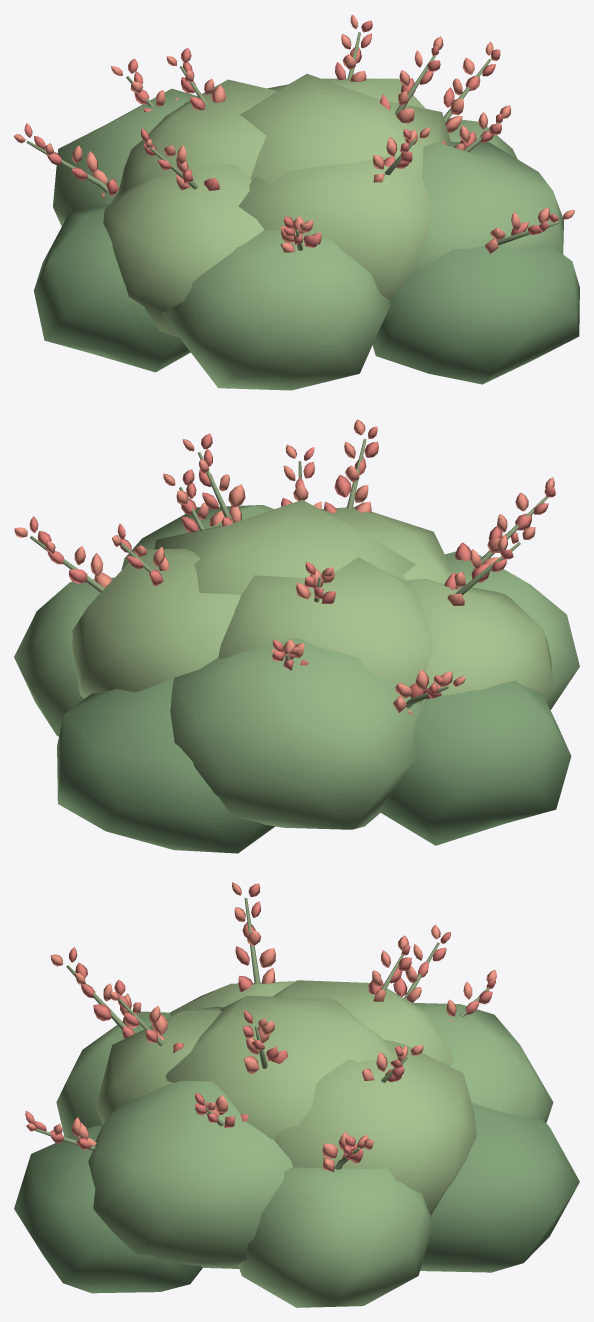
The model's file is ceibo_bush_3.glb.
3 renders of one model, top to bottom at view 1: azimuth 30°, elevation 25°; view 2: azimuth 150°, elevation 25°; view 3: azimuth 270°, elevation 25°, orthographic. The views are drawn at different scales.
Parts seen in each view (by area): view 1: CeiboLeafL, CeiboLeafM, CeiboLeafD, CeiboPetal, CeiboFlower, CeiboWood; view 2: CeiboLeafL, CeiboLeafM, CeiboLeafD, CeiboPetal, CeiboFlower, CeiboWood; view 3: CeiboLeafM, CeiboLeafL, CeiboLeafD, CeiboPetal, CeiboFlower, CeiboWood.
Part boxes in pixels (x1,y1,x2,y2): CeiboLeafL: (103, 73, 451, 336); CeiboLeafM: (53, 88, 563, 390); CeiboLeafD: (34, 204, 579, 384); CeiboPetal: (14, 14, 574, 253); CeiboFlower: (24, 20, 558, 247); CeiboWood: (26, 32, 559, 250); CeiboLeafL: (72, 500, 553, 706); CeiboLeafM: (14, 505, 579, 829); CeiboLeafD: (57, 678, 571, 853); CeiboPetal: (14, 419, 554, 714); CeiboFlower: (29, 426, 555, 699); CeiboWood: (30, 438, 547, 708); CeiboLeafM: (56, 1002, 553, 1307); CeiboLeafL: (95, 980, 476, 1215); CeiboLeafD: (14, 1103, 579, 1293); CeiboPetal: (26, 882, 496, 1171); CeiboFlower: (25, 883, 495, 1163); CeiboWood: (34, 898, 489, 1169).
Bounding box in the file's own units: 1.98 × 1.11 × 1.98.
